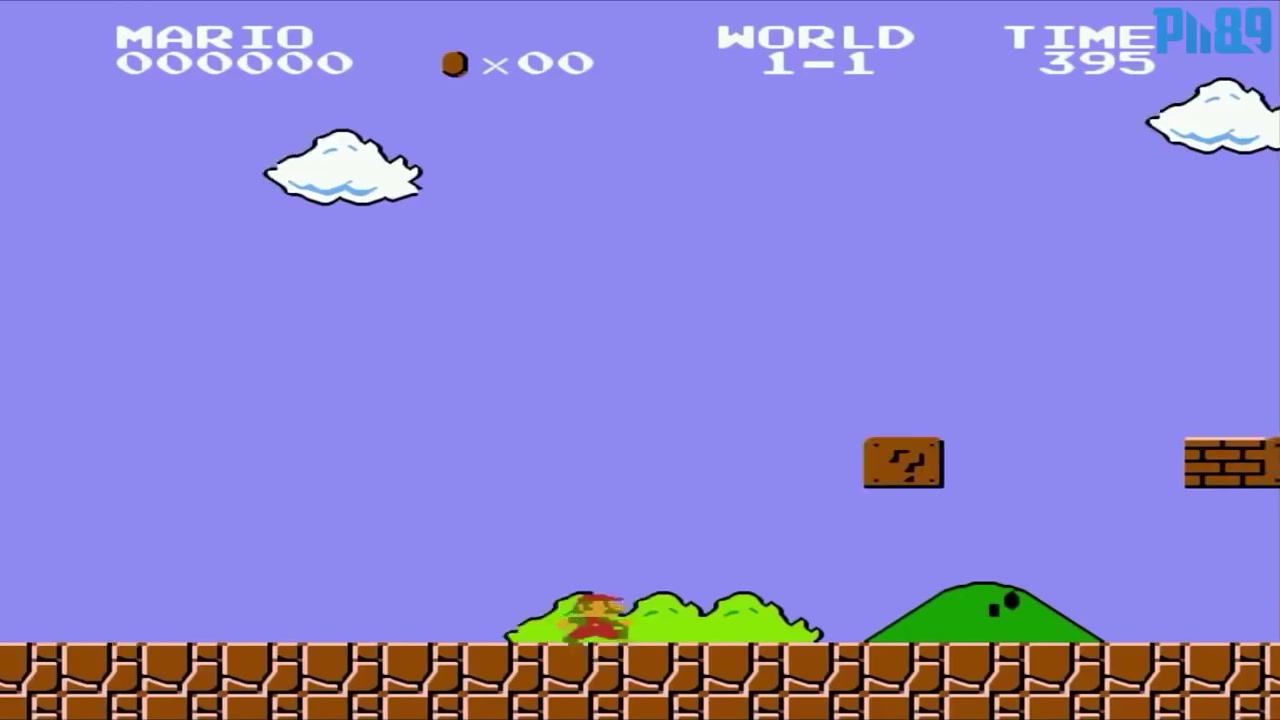mario: (555, 587, 636, 645)
